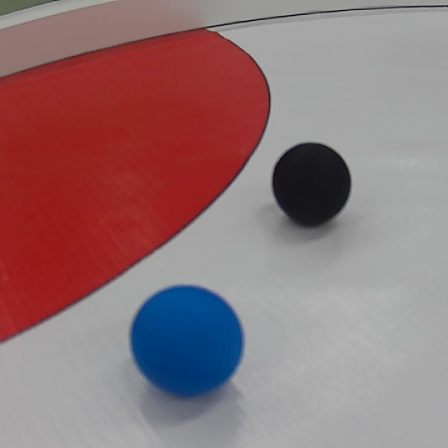black: (271, 143, 355, 228)
blue: (128, 284, 247, 397)
red_base: (1, 27, 270, 339)
